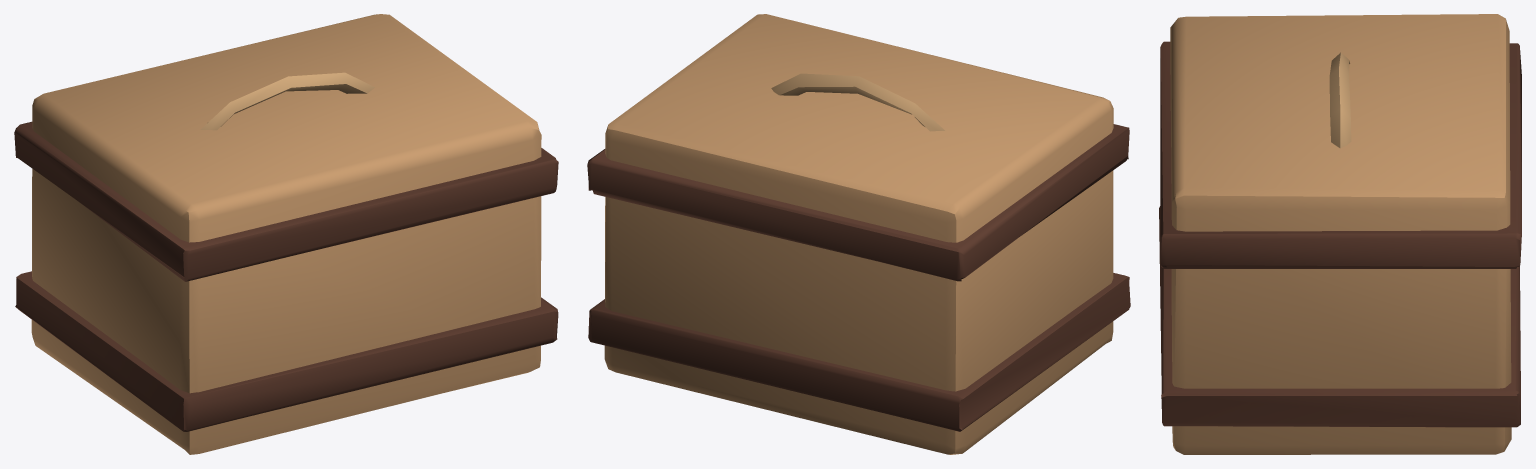
Rendered from crate.glb.
The picture shows the model from 3 angles, left to right: view 1: azimuth 30°, elevation 25°; view 2: azimuth 150°, elevation 25°; view 3: azimuth 270°, elevation 25°; orthographic projection. The views are drawn at different scales.
Visible parts, largest first — view 1: Crate; view 2: Crate; view 3: Crate.
Part boxes in pixels (x1,y1,x2,y2): Crate: (14,14,558,454); Crate: (587,14,1130,454); Crate: (1159,14,1521,454).
Bounding box in the file's own units: 0.9471 × 0.7582 × 0.747.
